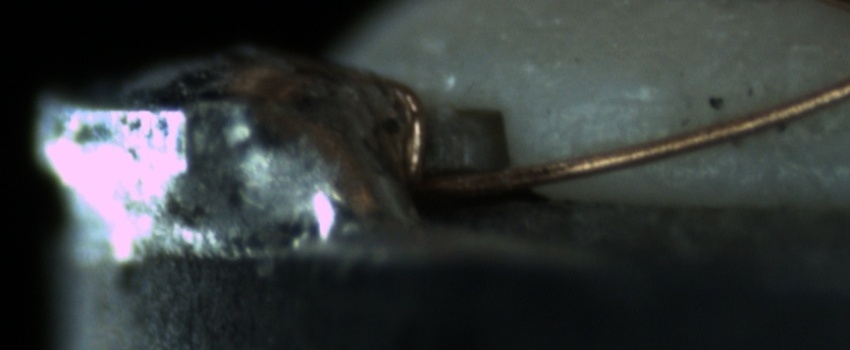DL: (547, 77, 678, 128)
TE: (373, 55, 427, 201)
